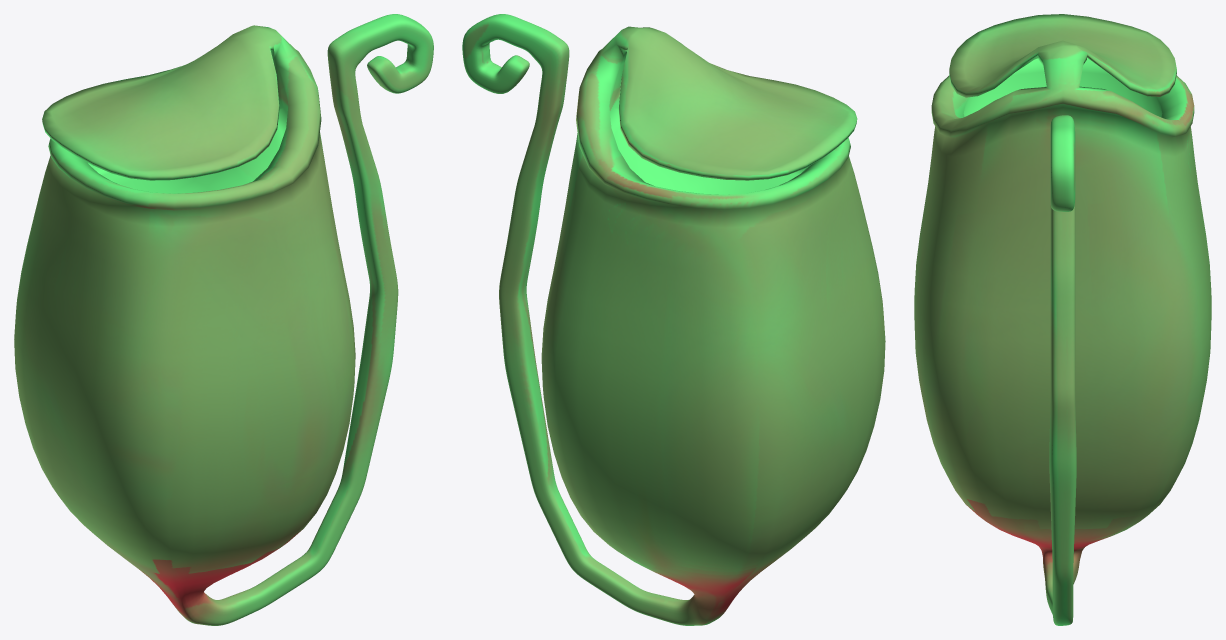
Rendered from kantong semar.fbx.
3 views of the same model, side by side, from view 1: azimuth 30°, elevation 25°; view 2: azimuth 150°, elevation 25°; view 3: azimuth 270°, elevation 25° (orthographic).
Visible parts, largest first — view 1: Plane.001; view 2: Plane.001; view 3: Plane.001.
Boxes of the visible parts, x1,y1,x2,y2 form: Plane.001: (14, 14, 433, 625); Plane.001: (462, 14, 885, 625); Plane.001: (914, 14, 1211, 625).
Bounding box in the file's own units: 183 × 271 × 126.
1 material, 1 textured.
